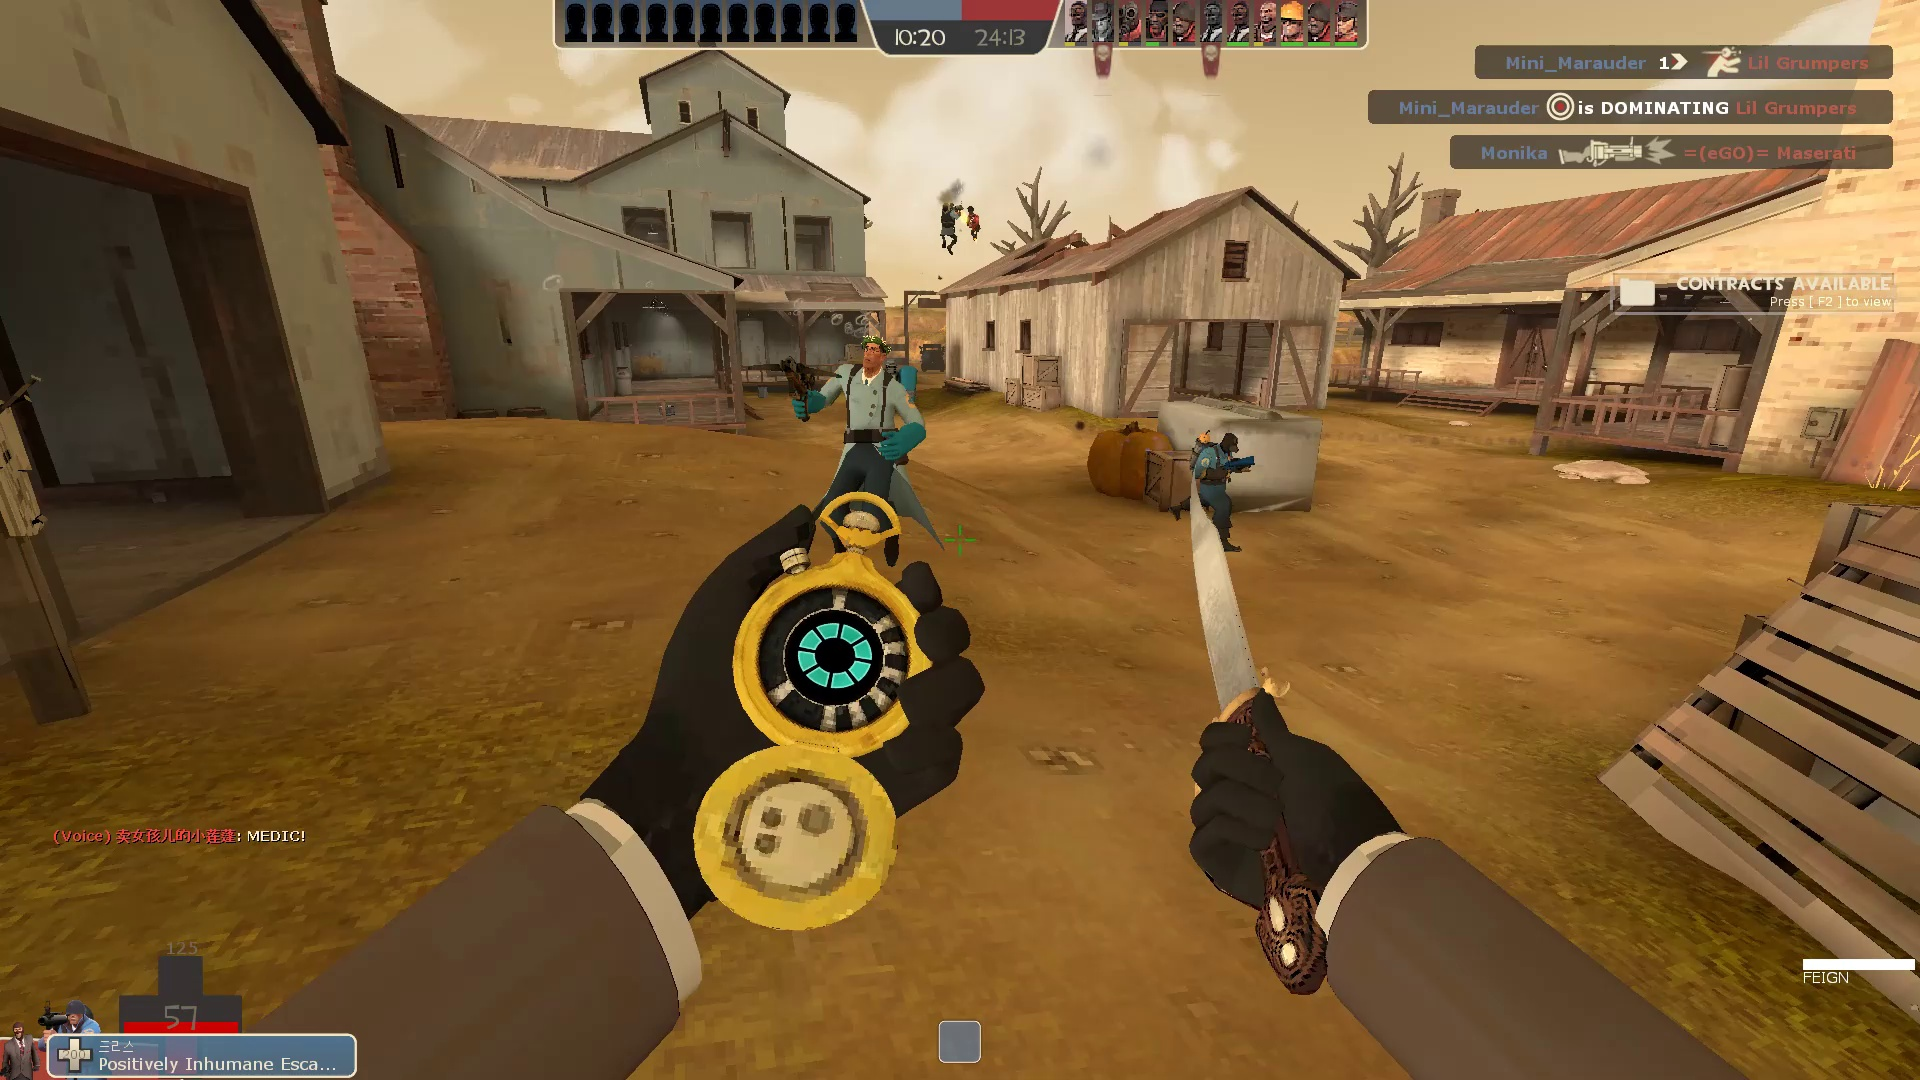blu_medic: (781, 328, 951, 579)
blu_pyro: (1164, 421, 1263, 560)
blu_soldier: (936, 199, 965, 255)
red_soldier: (967, 204, 985, 241)
